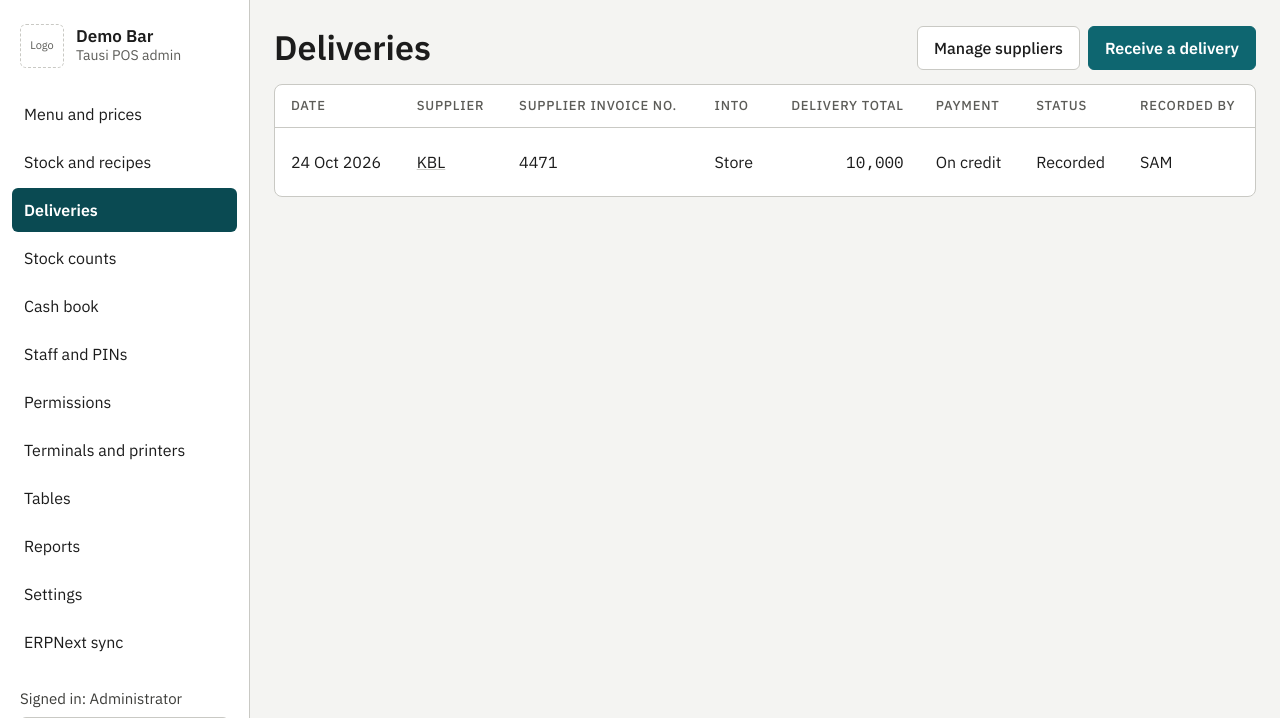
Scenario: Deliveries › opens a delivery and reverses it with a reason
Click the button with aria-label "Open delivery KBL 4471" at (431, 162), box left=417, top=140, right=445, bottom=184
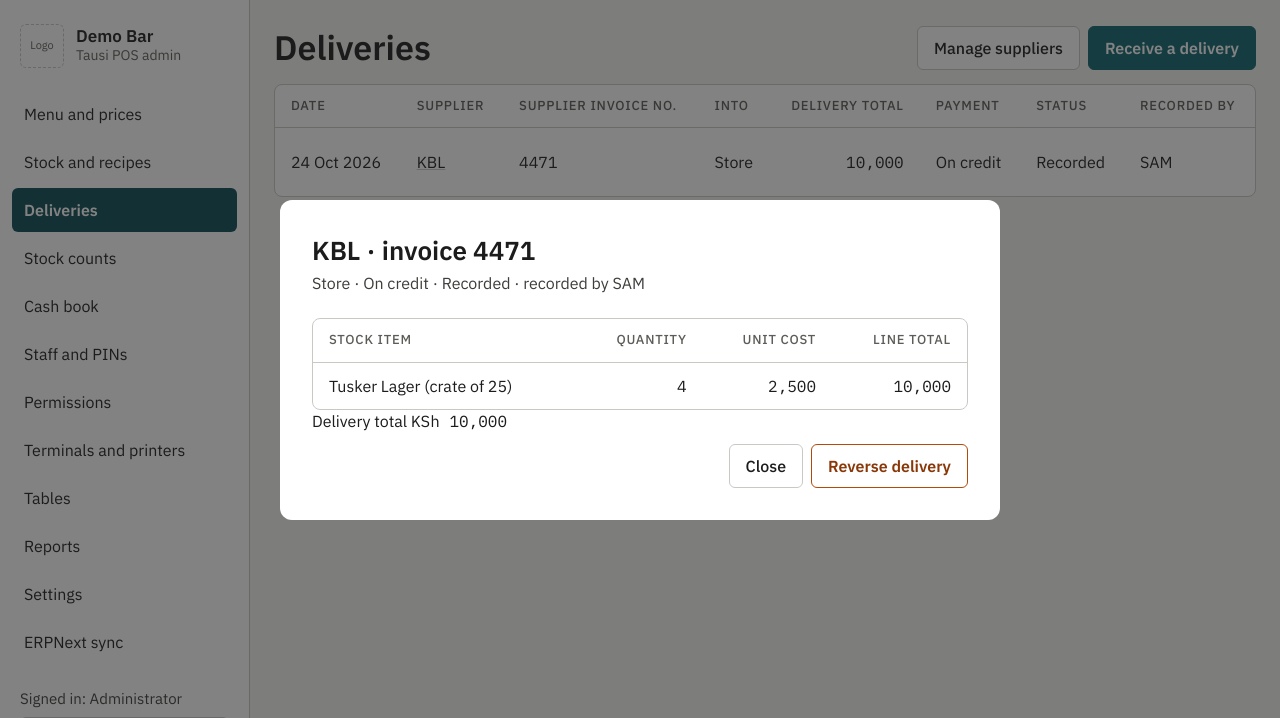
Click the button "Reverse delivery" at (890, 466), box left=811, top=444, right=968, bottom=488
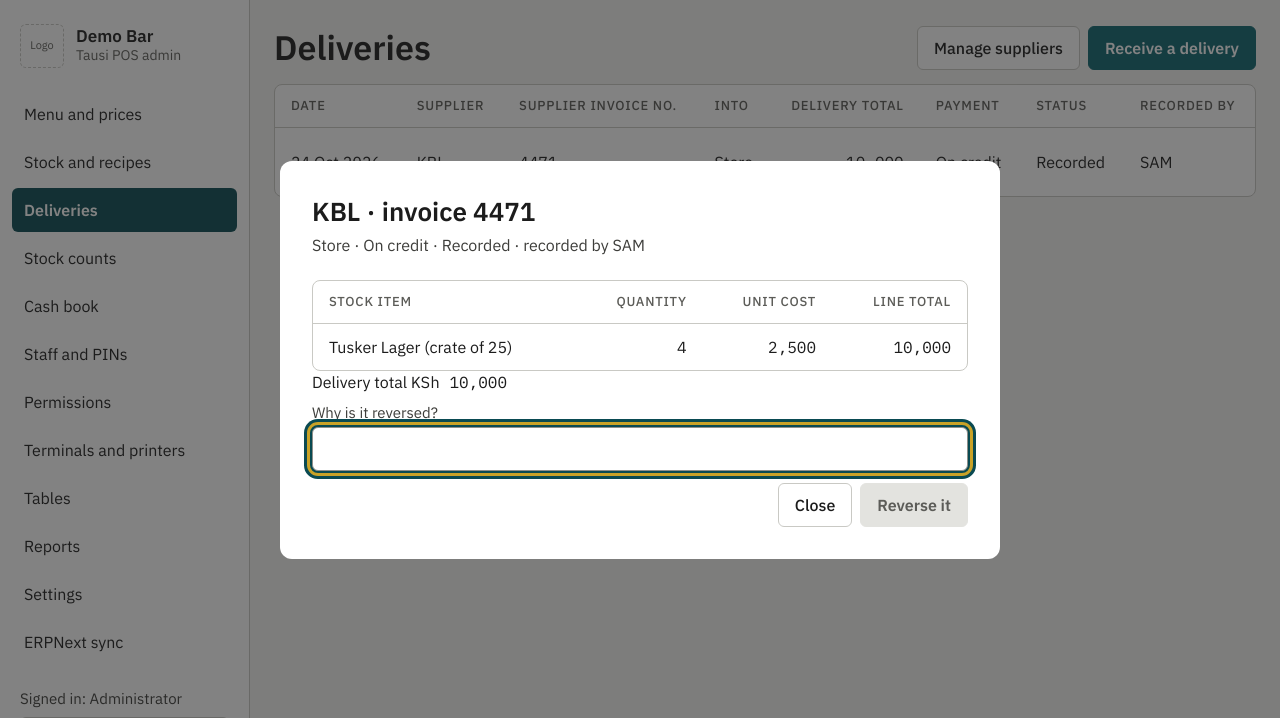
expect the button "Reverse it" is disabled: met, box left=860, top=483, right=968, bottom=527
Type "Wrong invoice" into the field labelled "Why is it reversed?" at (640, 449), box left=312, top=427, right=968, bottom=471
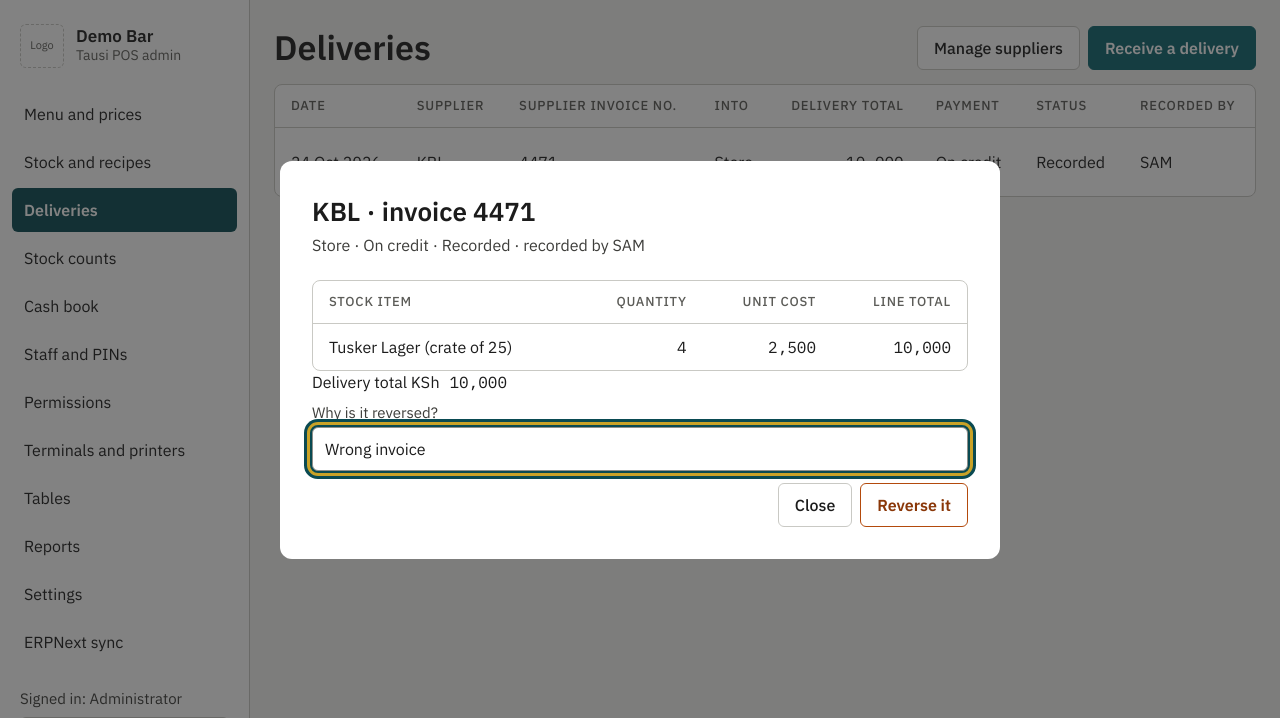
Click the button "Reverse it" at (914, 505), box left=860, top=483, right=968, bottom=527
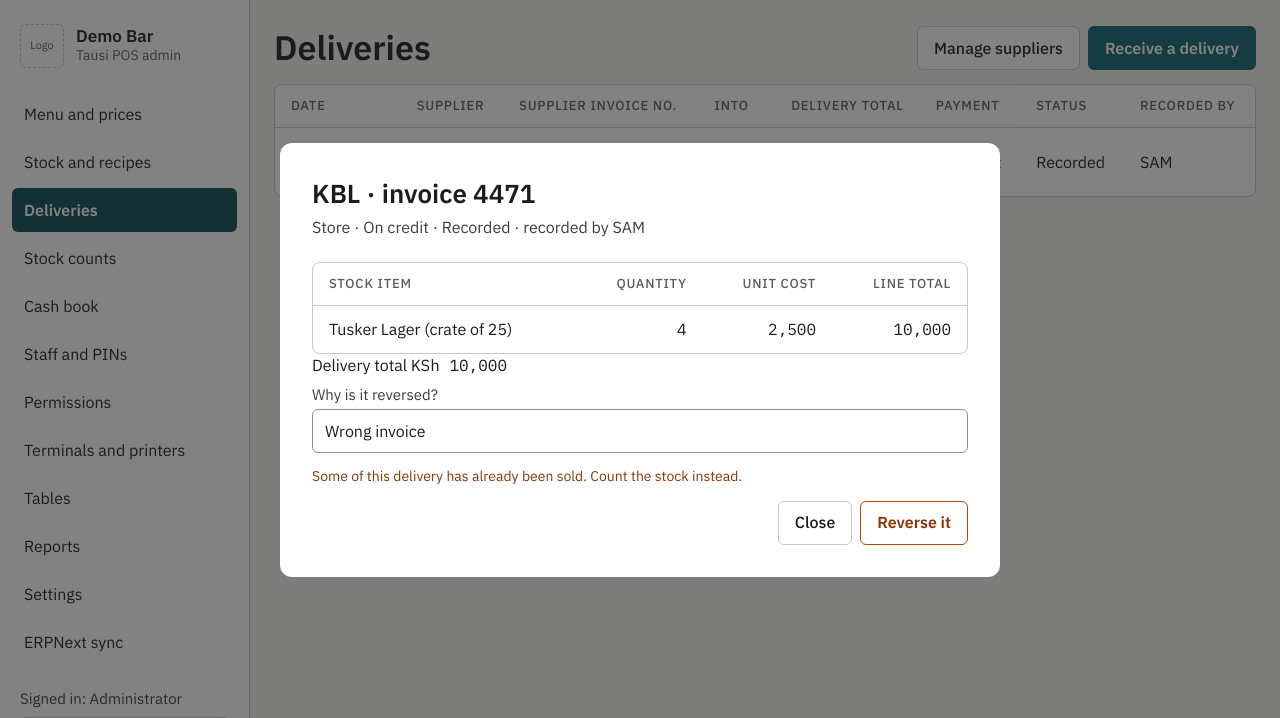
expect the text "Some of this delivery has already been sold. Count the stock instead." is shown: met, box left=312, top=467, right=742, bottom=485
